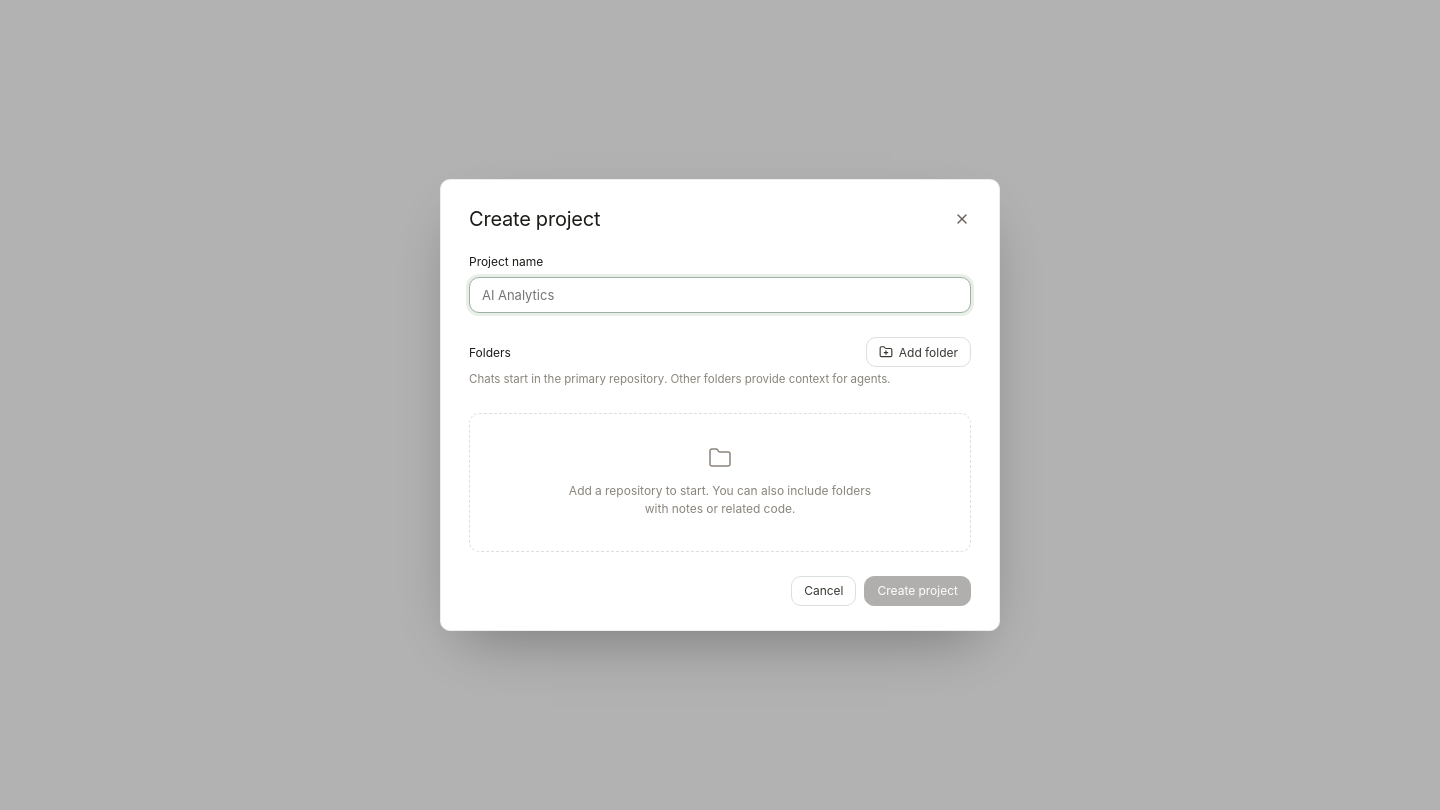
Scenario: NewProjectDialog › promotes the remaining folder after removing primary and disables submission without folders
Type "AI" into the field labelled "Project name" at (720, 295), box x1=469 y1=277 x2=971 y2=313
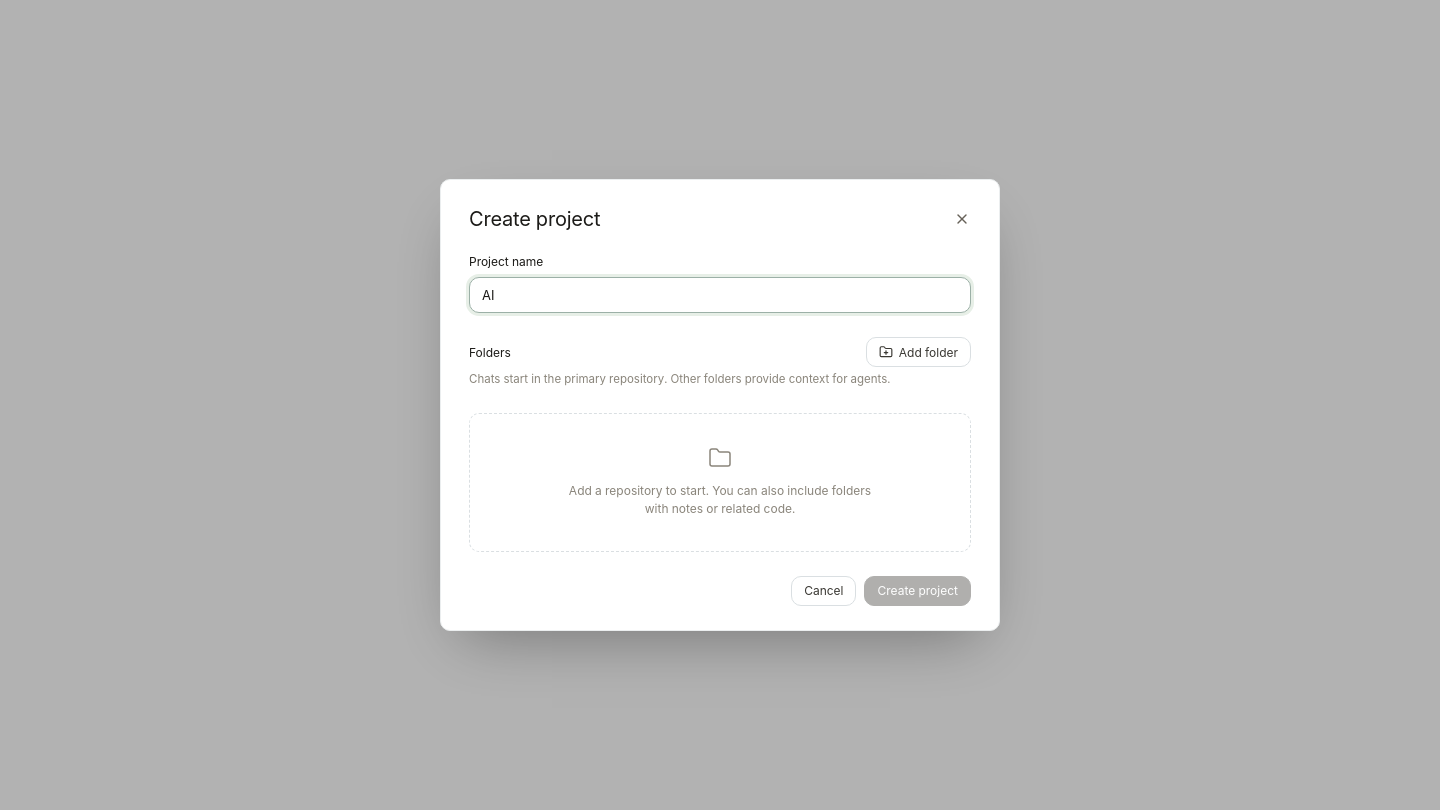
Click the button "Add folder" at (918, 352), box x1=866 y1=337 x2=971 y2=367
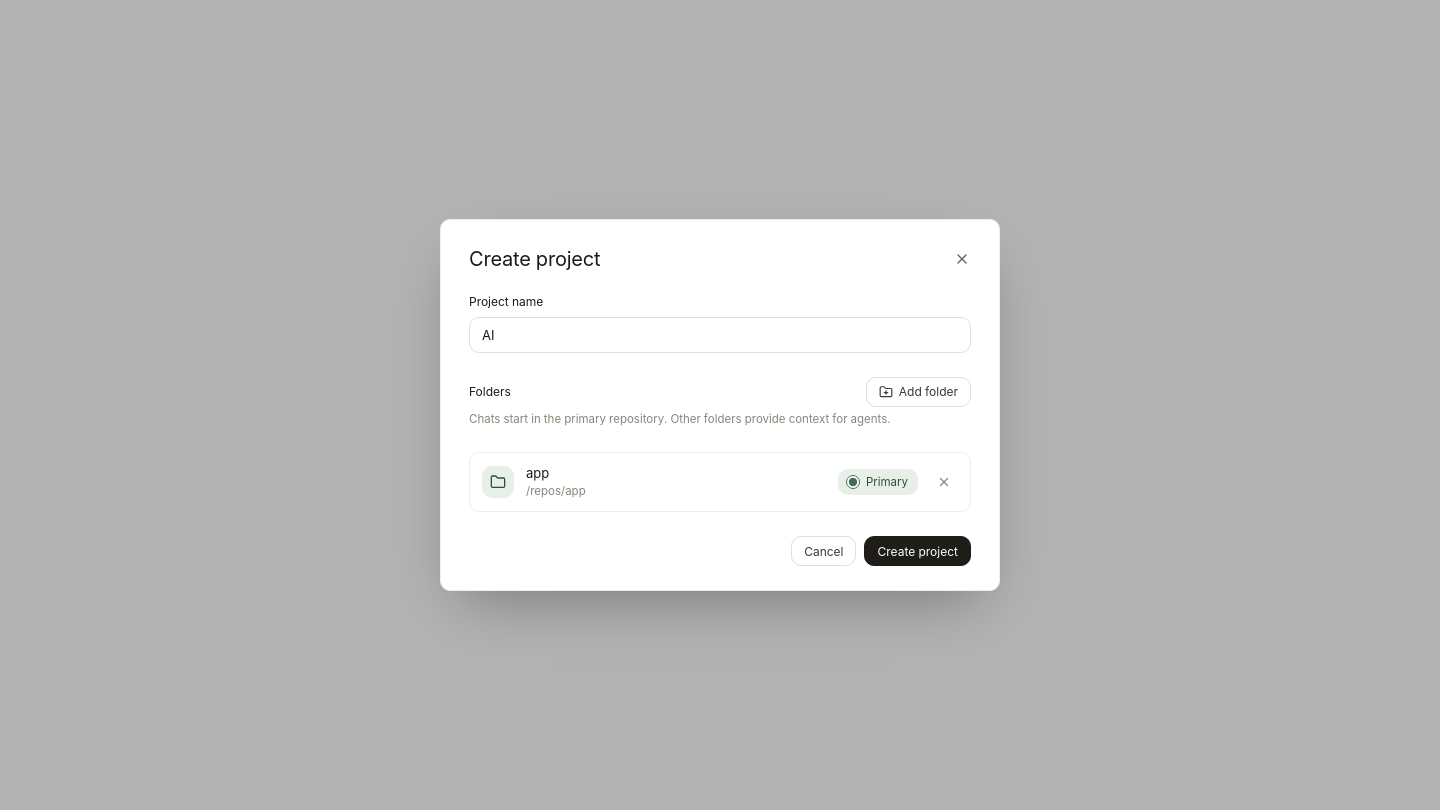
Expected: the text "app" is shown, x1=526 y1=465 x2=549 y2=481
Click the button "Add folder" at (918, 392), box x1=866 y1=376 x2=971 y2=406
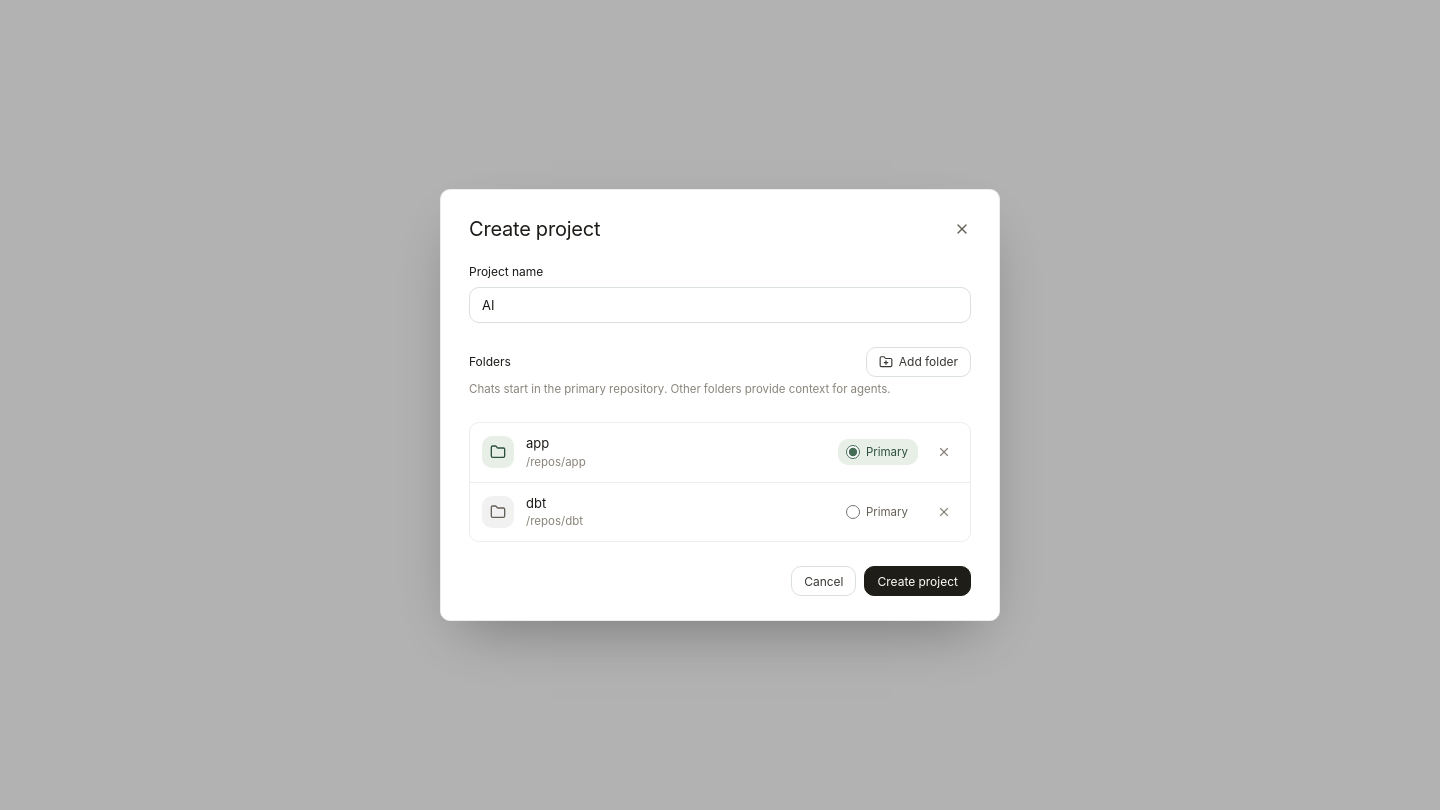
Expected: the text "dbt" is shown, x1=526 y1=495 x2=546 y2=511
Click the button named "Remove folder app" at (944, 452), box x1=930 y1=438 x2=958 y2=466
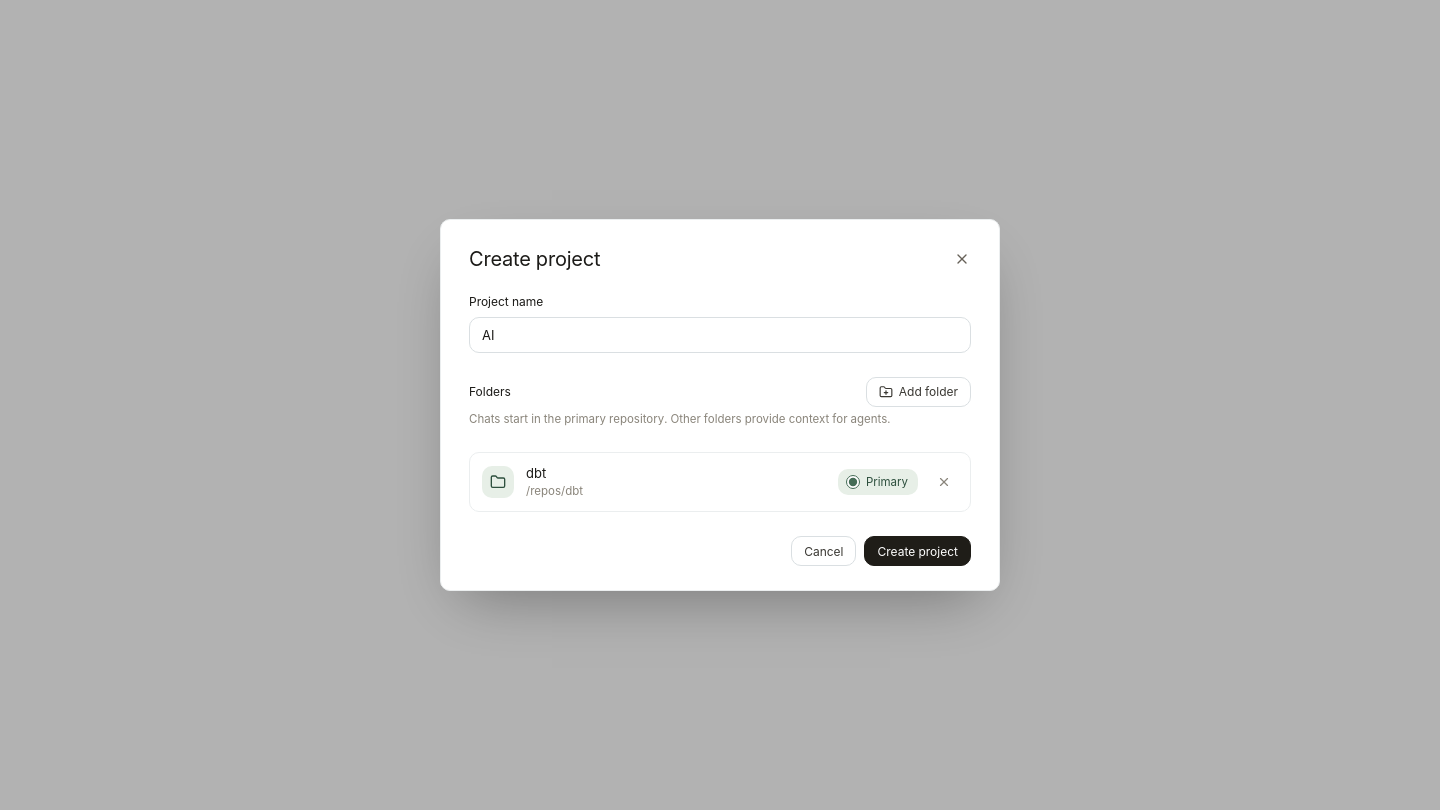
Expected: the radio button with aria-label "Make dbt primary" is checked, x1=846 y1=475 x2=860 y2=489
Expected: the number of radio buttons is 1, x1=846 y1=475 x2=860 y2=489
Click the button named "Remove folder dbt" at (944, 482), box x1=930 y1=468 x2=958 y2=496
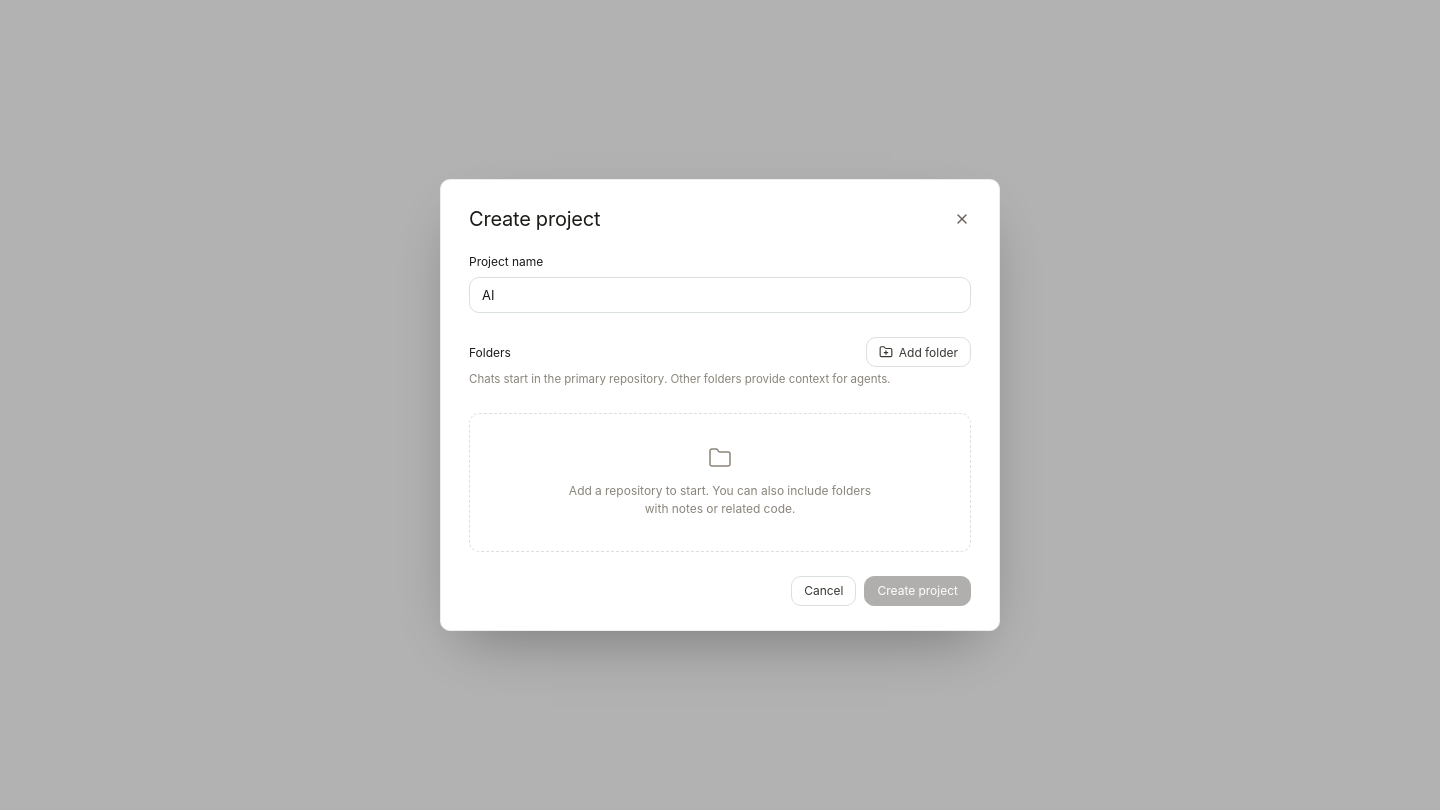
Expected: the button "Create project" is disabled, x1=864 y1=576 x2=971 y2=606
